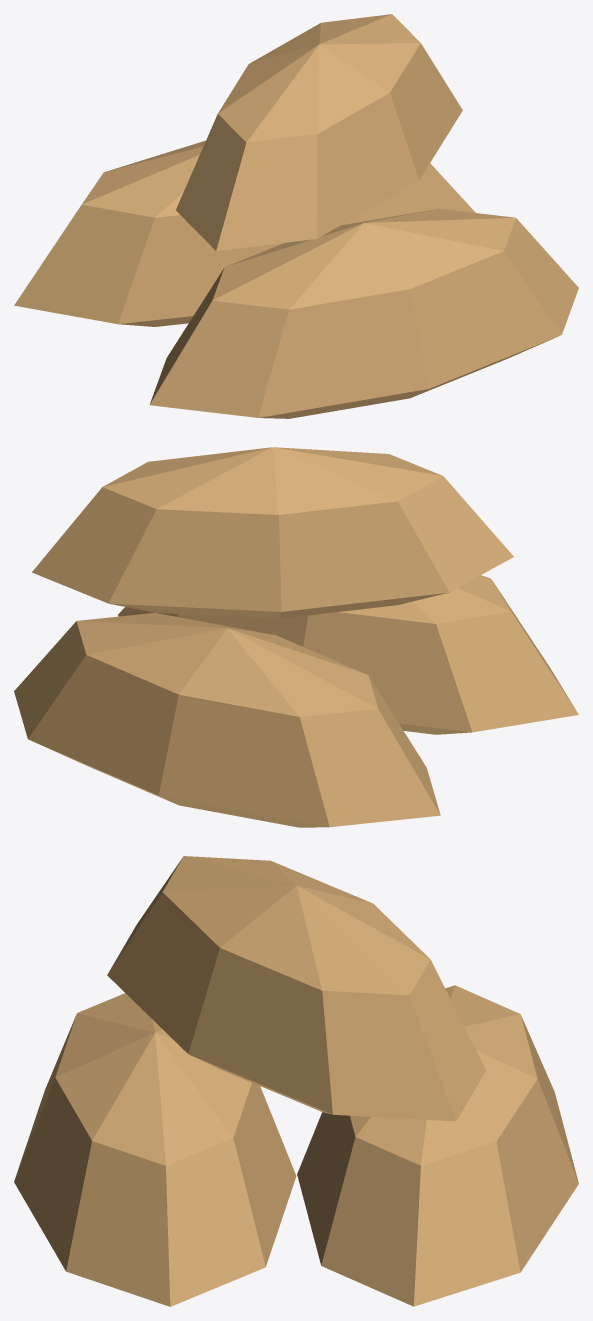
The model's file is prop-bread-loaf-stack.fbx.
3 renders of one model, top to bottom at view 1: azimuth 30°, elevation 25°; view 2: azimuth 150°, elevation 25°; view 3: azimuth 270°, elevation 25°, orthographic. The views are drawn at different scales.
Visible parts, largest first — view 1: prop-bread-loaf-stack; view 2: prop-bread-loaf-stack; view 3: prop-bread-loaf-stack.
Boxes of the visible parts, left/top/right/bottom form: prop-bread-loaf-stack: left=14, top=14, right=578, bottom=418; prop-bread-loaf-stack: left=14, top=447, right=578, bottom=827; prop-bread-loaf-stack: left=14, top=856, right=578, bottom=1306.
Bounding box in the file's own units: 29.96 × 18.5 × 27.97.
